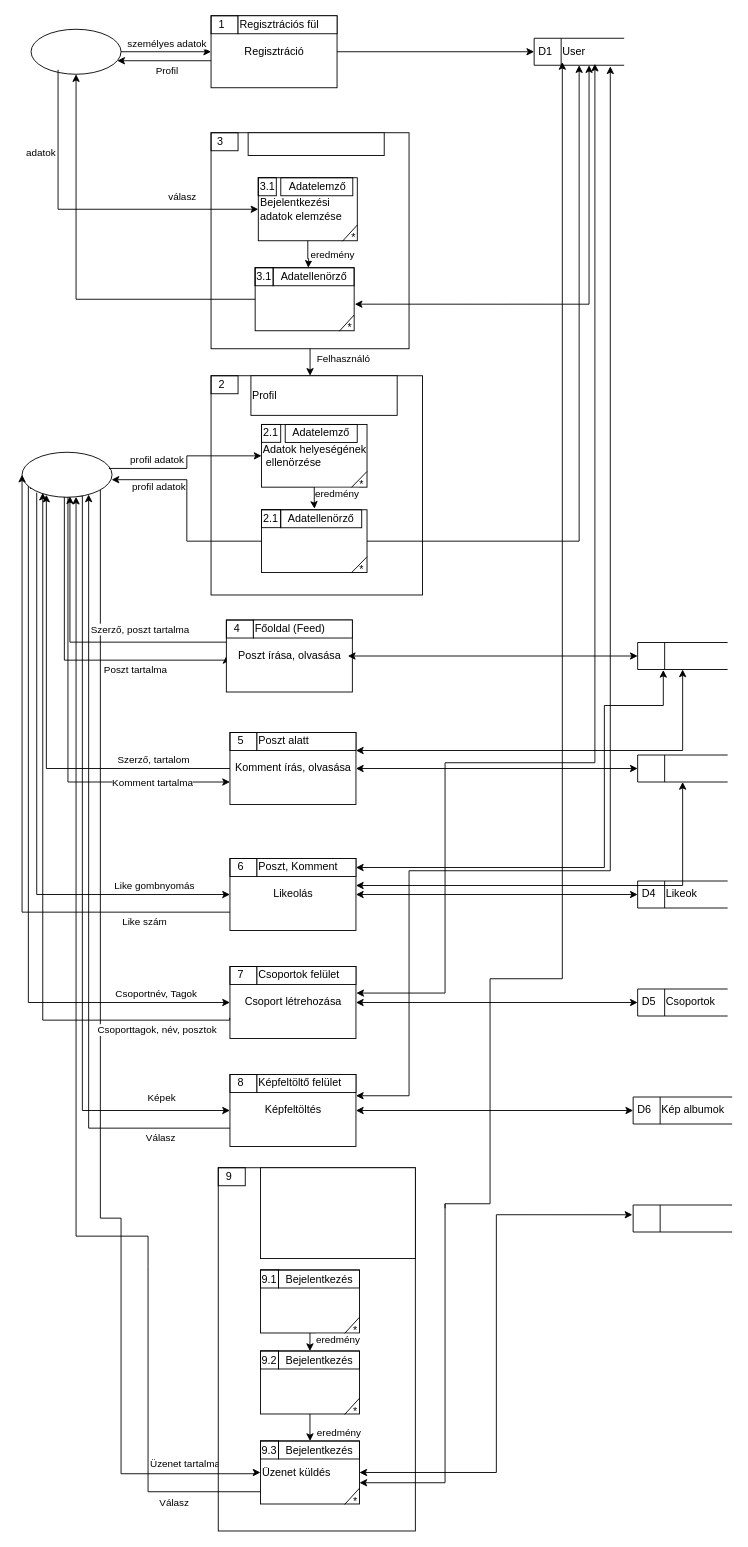
Some shapes in this 748 by 1547 pixel diagram are drawn without their labels. The box of each missing label's shape, as (x1, y1, x2, y2) in pixels:
Adatok feltöltése: (261, 509, 367, 572)
Barát kiválasztása: (260, 1269, 359, 1333)
Bejelentkezés felület: (247, 132, 384, 156)
Bejelentkezési adatok ellenörzése: (254, 267, 354, 331)
D2 Posztok: (637, 642, 728, 670)
D3 Kommentek: (637, 754, 728, 782)
D7 Üzenetek: (632, 1204, 732, 1232)
Guest: (30, 28, 121, 74)
User: (21, 451, 112, 497)
Üzenet tartalom megírása: (260, 1350, 359, 1414)
Üzenetküldő felület: (260, 1167, 415, 1259)
